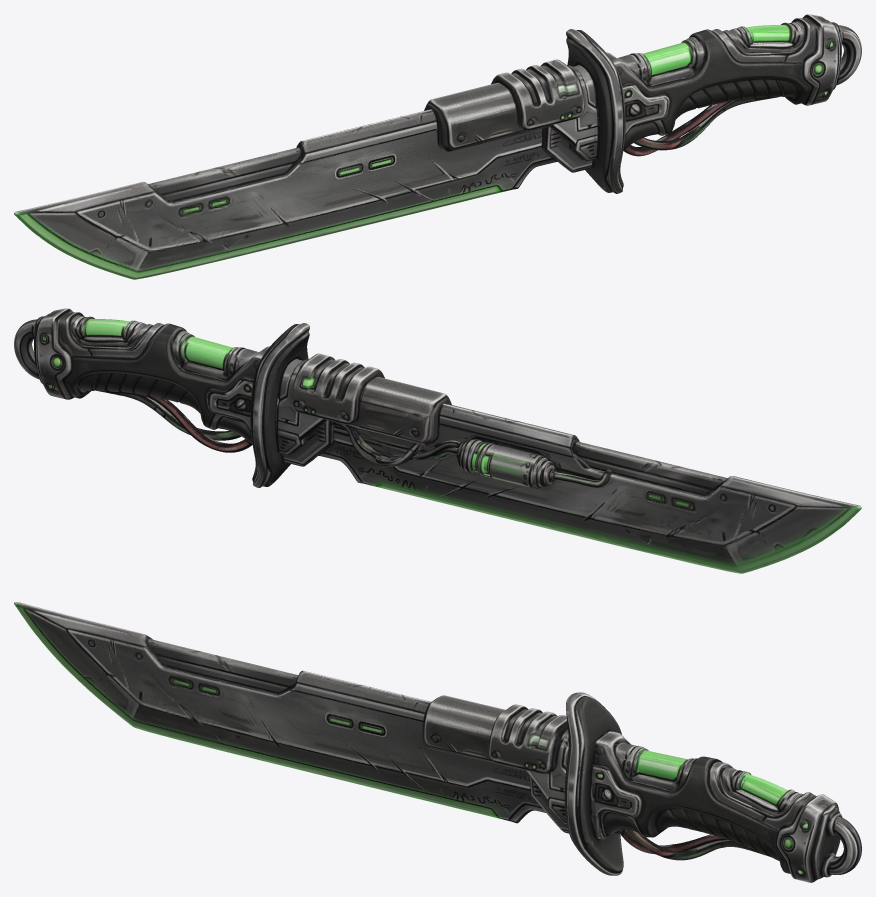
The model's file is EdgeBlade.glb.
The picture shows the model from 3 angles, top to bottom: view 1: azimuth 30°, elevation 25°; view 2: azimuth 150°, elevation 25°; view 3: azimuth 330°, elevation 25°; orthographic projection.
Bounding box in the file's own units: 1.91 × 0.3662 × 0.1949.
Materials: 1 (1 with a texture image).
